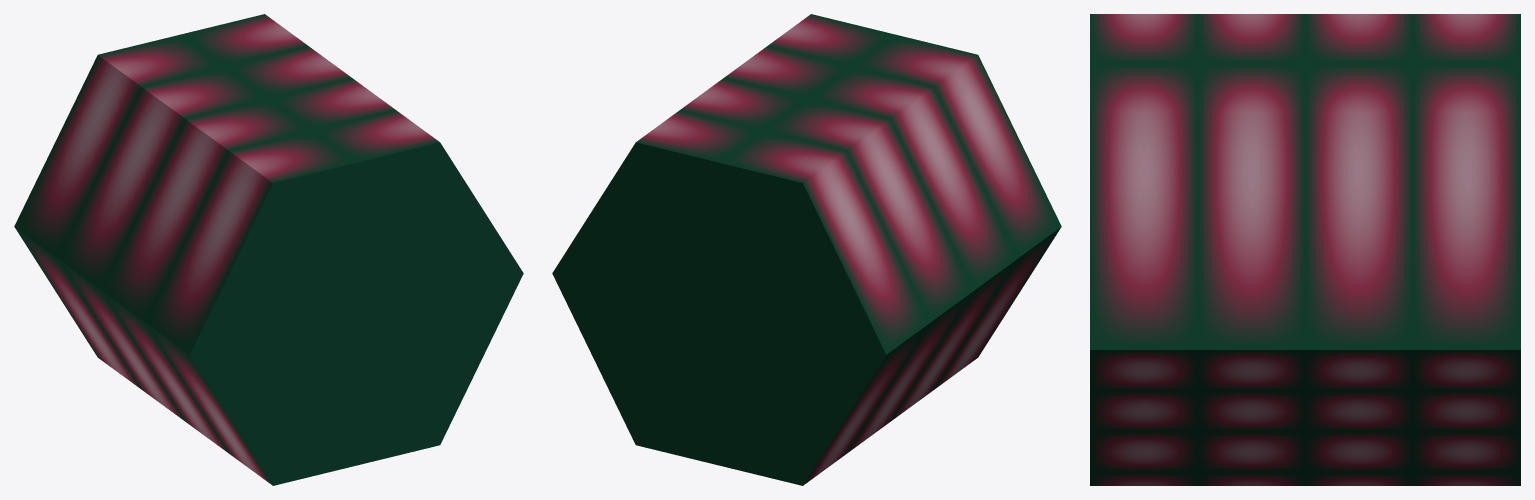
Rendered from hexprism-rose-c1.glb.
3 views of the same model, side by side, from view 1: azimuth 30°, elevation 25°; view 2: azimuth 150°, elevation 25°; view 3: azimuth 270°, elevation 25° (orthographic). The views are drawn at different scales.
Visible parts, largest first — view 1: world; view 2: world; view 3: world.
Boxes of the visible parts, x1=… form: world: x1=14, y1=14, x2=523, y2=485; world: x1=552, y1=14, x2=1061, y2=485; world: x1=1090, y1=14, x2=1520, y2=485.
Size of the model in its own units: 1.1 by 0.9526 by 1.
Materials: 1 (1 with a texture image).
